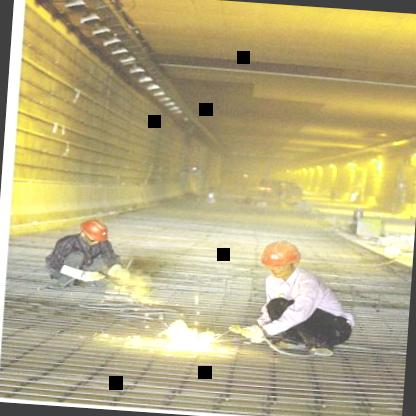helmet: (257, 238, 303, 280), (75, 216, 110, 249)
